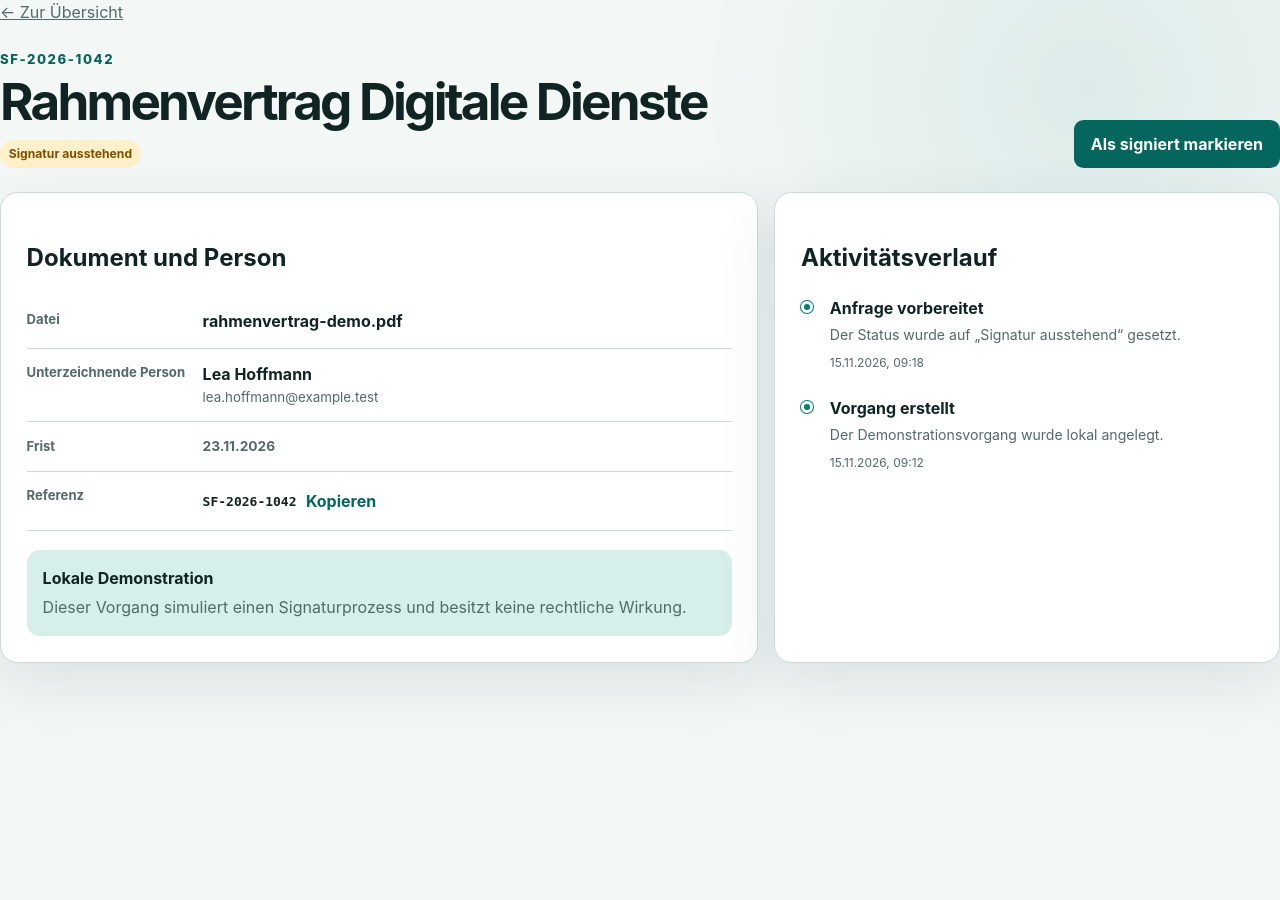
WorkflowDetailPage › changes state only after confirmation and appends an audit entry
This screenshot has width=1280, height=900.
Expected: the text "Signatur ausstehend" is shown, [0,140,141,168]
Click the button "Als signiert markieren": (1177, 144) [1074,120,1279,168]
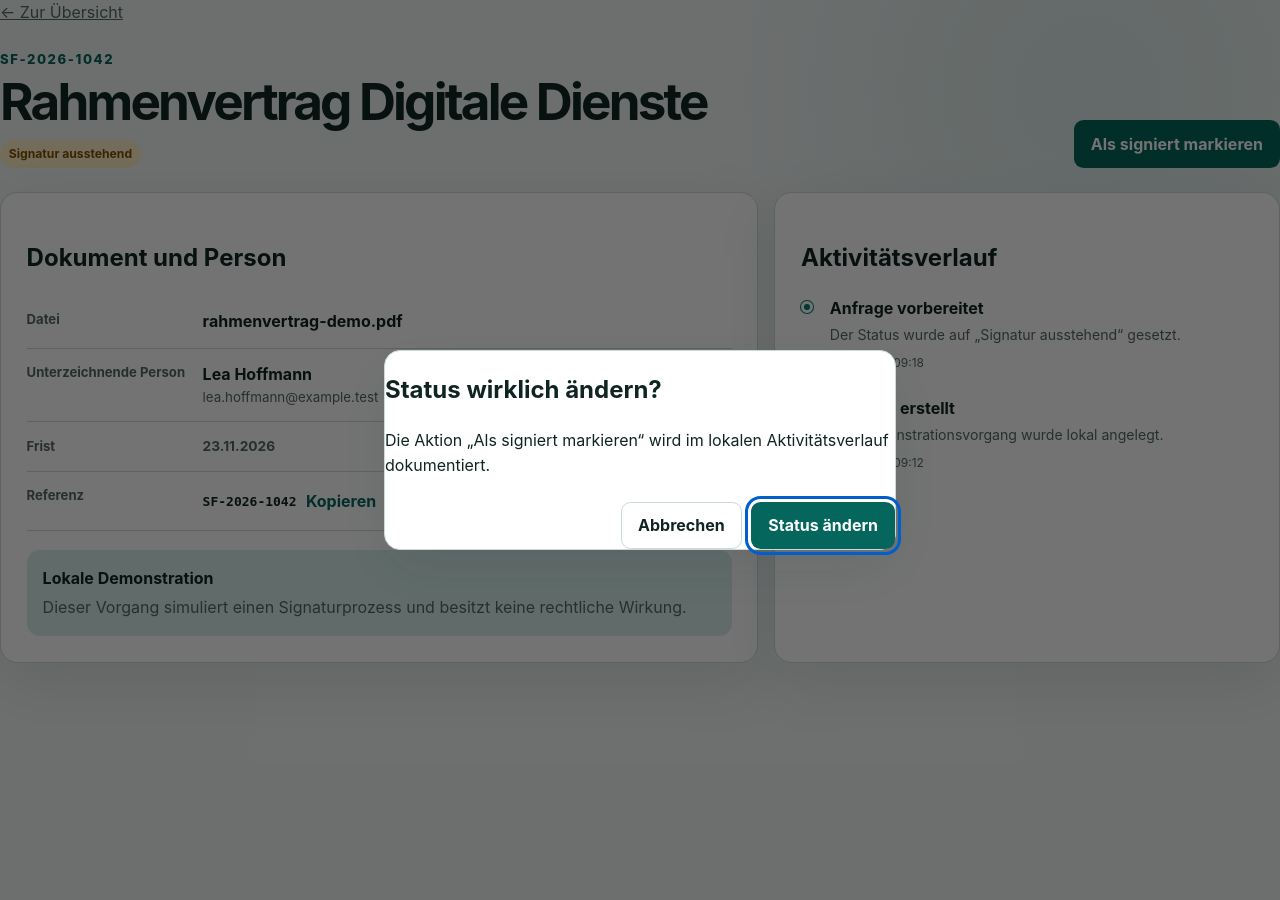
Expected: the text "Signatur ausstehend" is shown, [0,140,141,168]
Click the button "Abbrechen": (681, 525) [621,502,742,549]
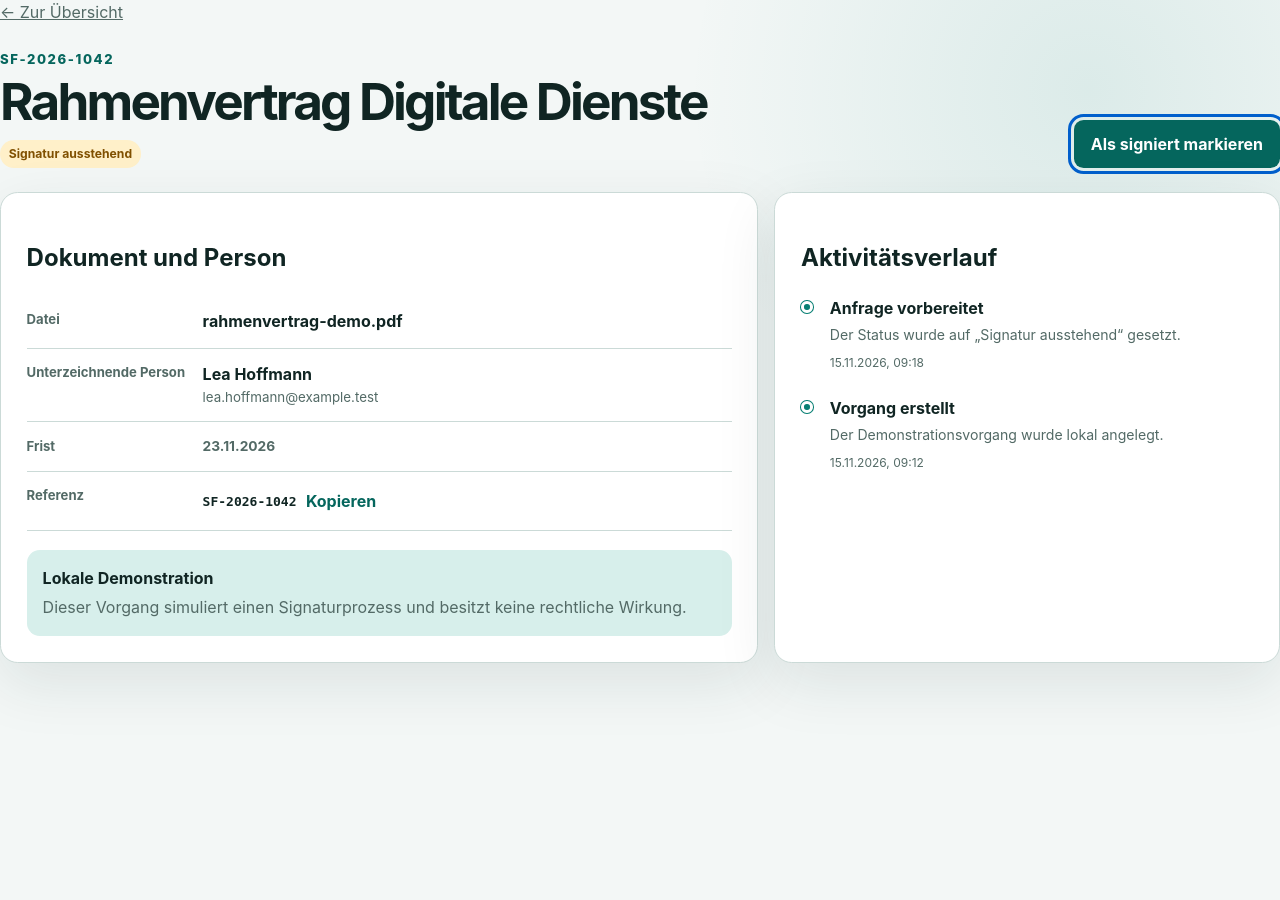
Expected: the text "Signatur ausstehend" is shown, [0,140,141,168]
Click the button "Als signiert markieren": (1177, 144) [1074,120,1279,168]
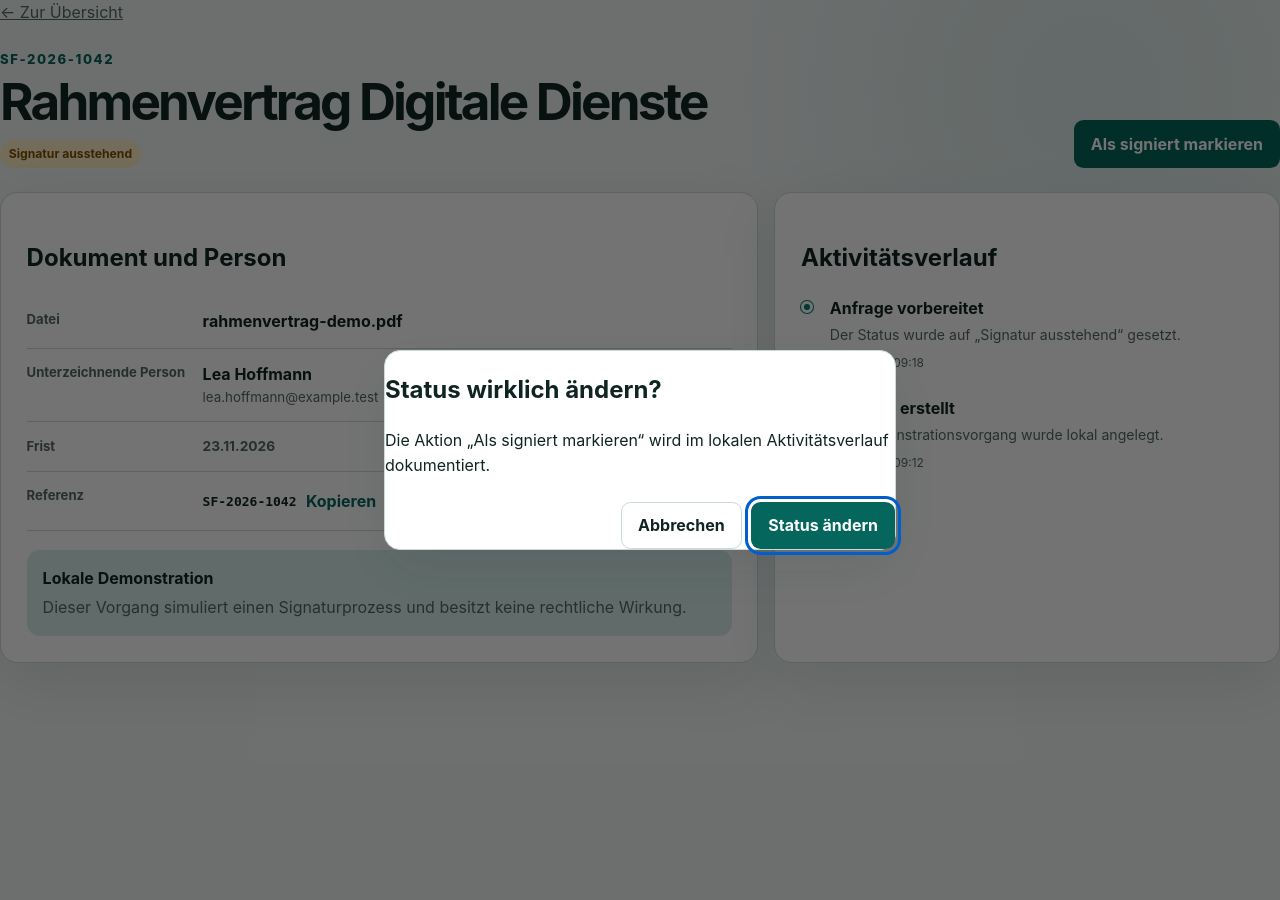
Click the button "Status ändern": (823, 525) [751,502,895,549]
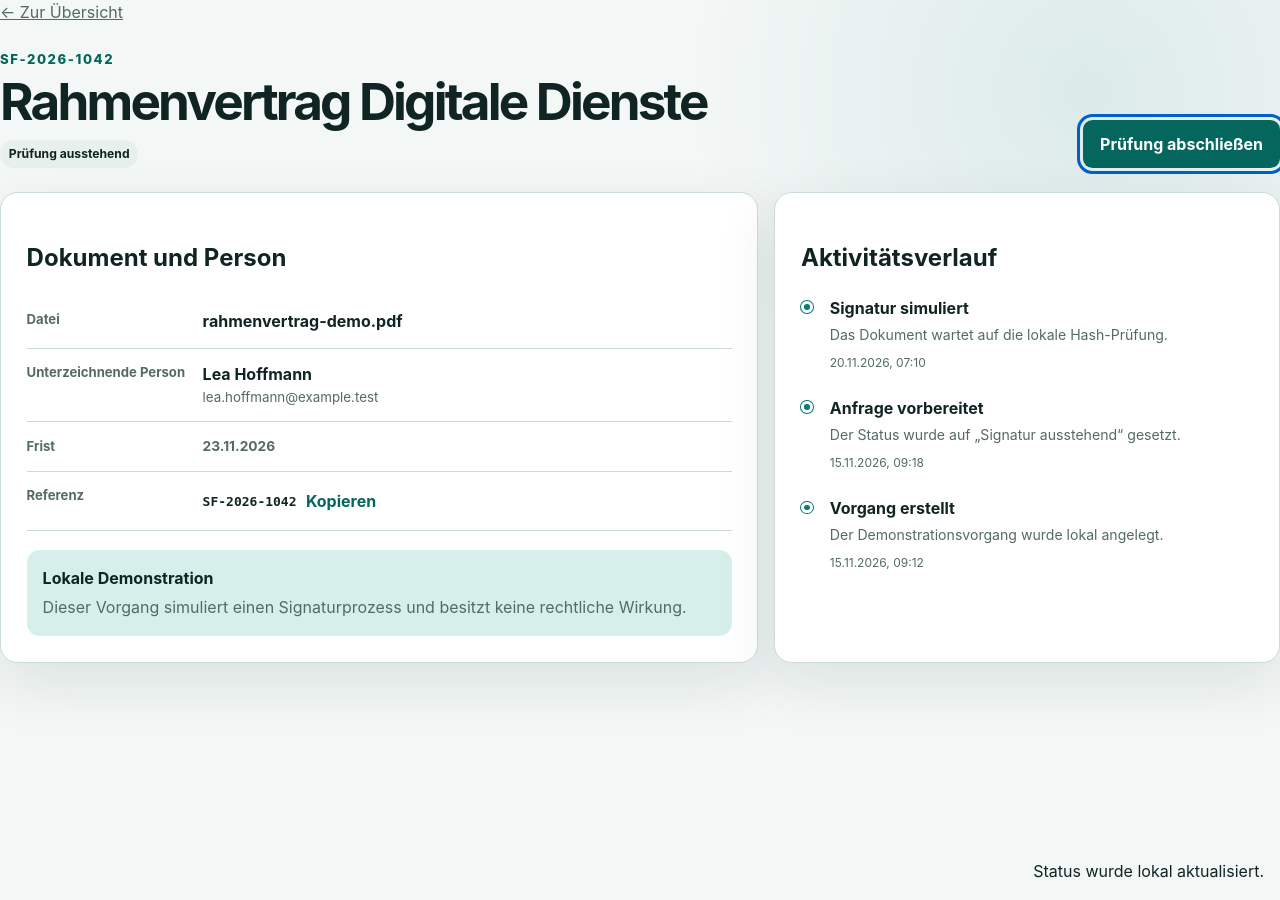
Now the text "Prüfung ausstehend" is shown, box [0,140,138,168]
Now the text "Signatur simuliert" is shown, box [830,298,969,318]
